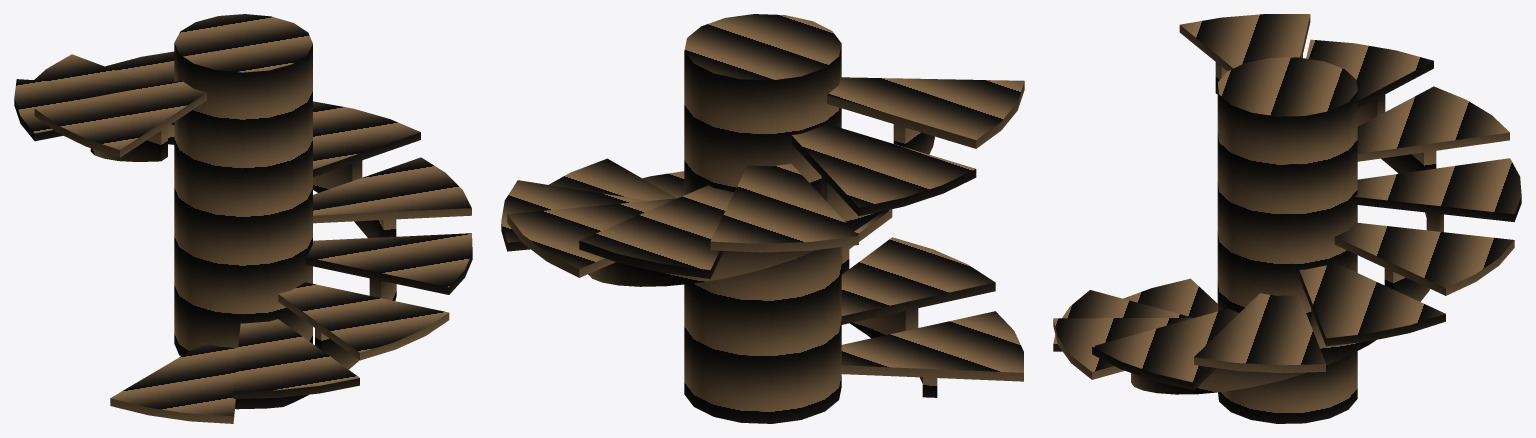
The model's file is stairs2.FBX.
3 renders of one model, left to right at view 1: azimuth 30°, elevation 25°; view 2: azimuth 150°, elevation 25°; view 3: azimuth 270°, elevation 25°, orthographic. The views are drawn at different scales.
Parts seen in each view (by area): view 1: SpiralStair002; view 2: SpiralStair002; view 3: SpiralStair002.
Boxes of the visible parts, <box> form: SpiralStair002: <box>14,14,472,423</box>; SpiralStair002: <box>501,14,1024,423</box>; SpiralStair002: <box>1053,14,1521,423</box>.
Bounding box in the file's own units: 108 × 78.42 × 108.
Materials: 1 (1 with a texture image).
